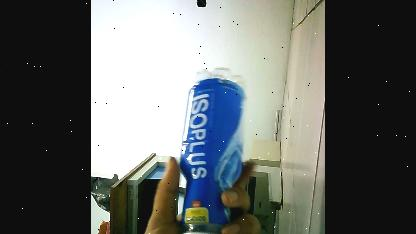Plastic Bottle: (159, 49, 270, 234)
